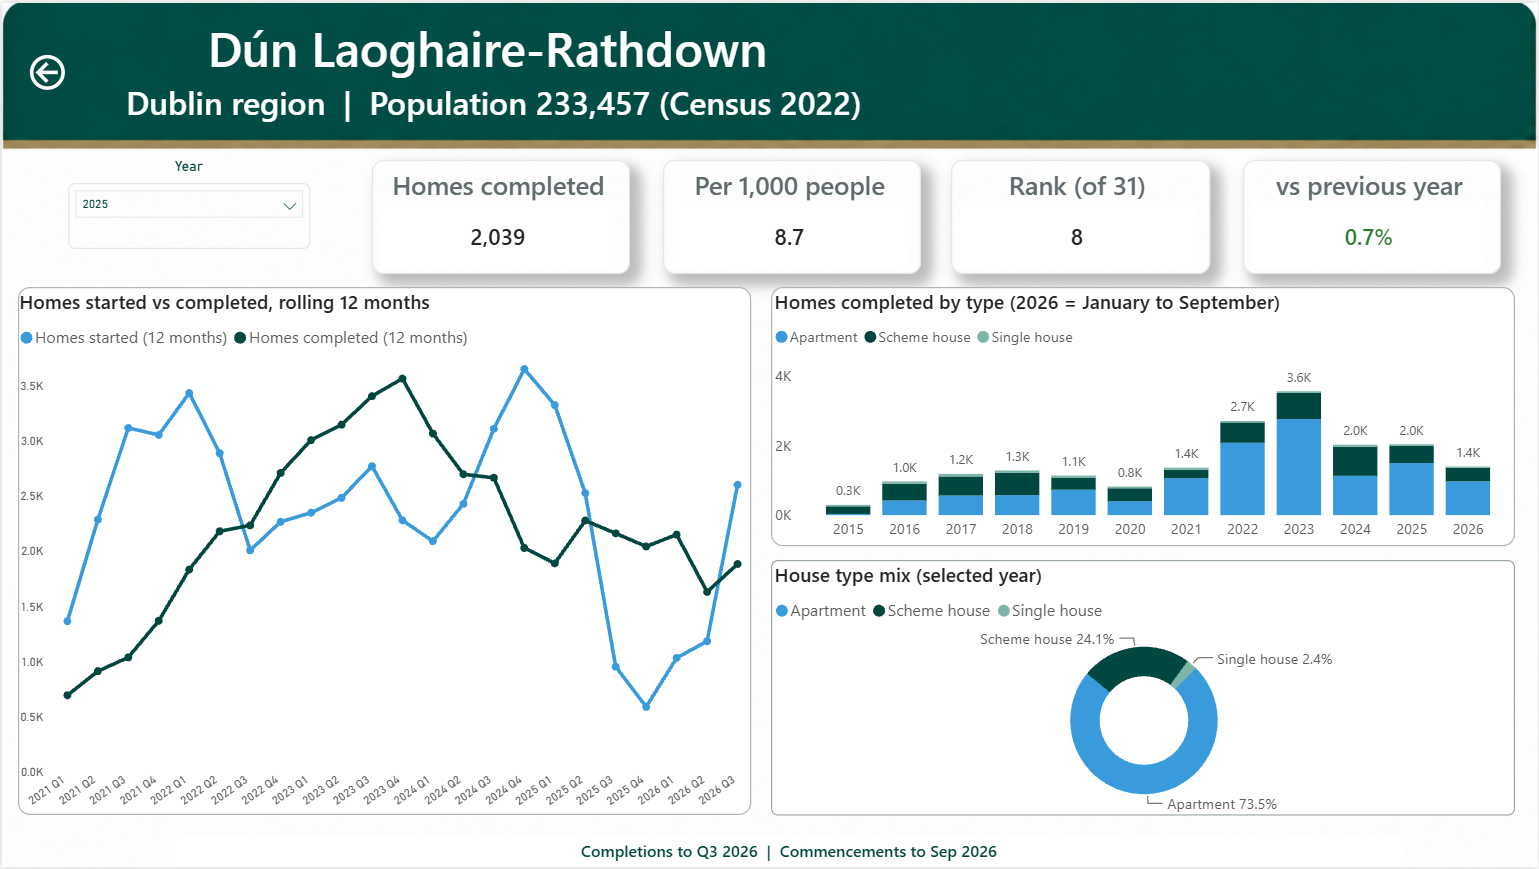

The page's visual inventory and layout, read from the dashboard file:
{"tool":"powerbi","page":{"name":"Council Detail","canvas":[1280,720],"ordinal":4},"visuals":[{"type":"card","fields":{"Values":["_Measures.Data Note"]},"box":[144.4,694.4,1023.3,24.4],"z":0},{"type":"slicer","fields":{"Values":["Date.Year"]},"box":[55,150,202,55],"z":1000},{"type":"textbox","box":[130,121,51,29],"z":2000},{"type":"actionButton","box":[13,38,49,39],"z":3000},{"type":"card","fields":{"Values":["_Measures.Council Title"]},"box":[55,12,699,51],"z":4000},{"type":"card","fields":{"Values":["_Measures.Council Subtitle"]},"box":[55,63,710,41],"z":5000},{"type":"cardVisual","title":"Homes completed","fields":{"Data":["_Measures.Homes Completed"]},"box":[315.7,136.4,195.5,85],"z":6000},{"type":"cardVisual","title":"Per 1,000 people","fields":{"Data":["_Measures.Completions per 1,000"]},"box":[558.9,136.4,194.6,84.9],"z":7000},{"type":"cardVisual","title":"vs previous year","fields":{"Data":["_Measures.Completed YoY %"]},"box":[1041.5,136.4,195.5,84.9],"z":8000},{"type":"cardVisual","title":"Rank (of 31)","fields":{"Data":["_Measures.Completions Rank"]},"box":[798.3,136.4,195.5,84.9],"z":9000},{"type":"shape","box":[550.4,130.6,214.6,95.4],"z":10000},{"type":"shape","box":[1034,130.6,214.6,95.4],"z":11000},{"type":"shape","box":[790.8,130.6,215.6,95.4],"z":12000},{"type":"shape","box":[308.2,130.6,214.6,95.4],"z":13000},{"type":"columnChart","title":"Homes completed by type (2026 = January to September)","fields":{"Category":["Date.Year"],"Series":["Completions.House Type"],"Y":["_Measures.Homes Completed"]},"box":[640.6,237,619.6,216.1],"z":14000},{"type":"donutChart","title":"House type mix (selected year)","fields":{"Category":["Completions.House Type"],"Y":["_Measures.Homes Completed"]},"box":[640.6,464.2,619.6,212.8],"z":15000},{"type":"lineChart","title":"Homes started vs completed, rolling 12 months","fields":{"Category":["Date.Quarter"],"Y":["_Measures.Started (rolling 12m)","_Measures.Completed (rolling 12m)"]},"box":[13.2,237,610.8,439.9],"z":16000}]}

Visuals, with their boxes in screenshot pixels (x1, y1, x2, y2), scaled from the page's 1280x720 canvas onto the 1539x869 screenshot:
card - _Measures.Data Note: <bbox>174, 838, 1404, 868</bbox>
slicer - Date.Year: <bbox>66, 181, 309, 247</bbox>
textbox: <bbox>156, 146, 218, 181</bbox>
actionButton: <bbox>16, 46, 75, 93</bbox>
card - _Measures.Council Title: <bbox>66, 14, 907, 76</bbox>
card - _Measures.Council Subtitle: <bbox>66, 76, 920, 126</bbox>
"Homes completed" cardVisual: <bbox>380, 165, 615, 267</bbox>
"Per 1,000 people" cardVisual: <bbox>672, 165, 906, 267</bbox>
"vs previous year" cardVisual: <bbox>1252, 165, 1487, 267</bbox>
"Rank (of 31)" cardVisual: <bbox>960, 165, 1195, 267</bbox>
shape: <bbox>662, 158, 920, 273</bbox>
shape: <bbox>1243, 158, 1501, 273</bbox>
shape: <bbox>951, 158, 1210, 273</bbox>
shape: <bbox>371, 158, 629, 273</bbox>
"Homes completed by type (2026 = January to September)" columnChart: <bbox>770, 286, 1515, 547</bbox>
"House type mix (selected year)" donutChart: <bbox>770, 560, 1515, 817</bbox>
"Homes started vs completed, rolling 12 months" lineChart: <bbox>16, 286, 750, 817</bbox>
